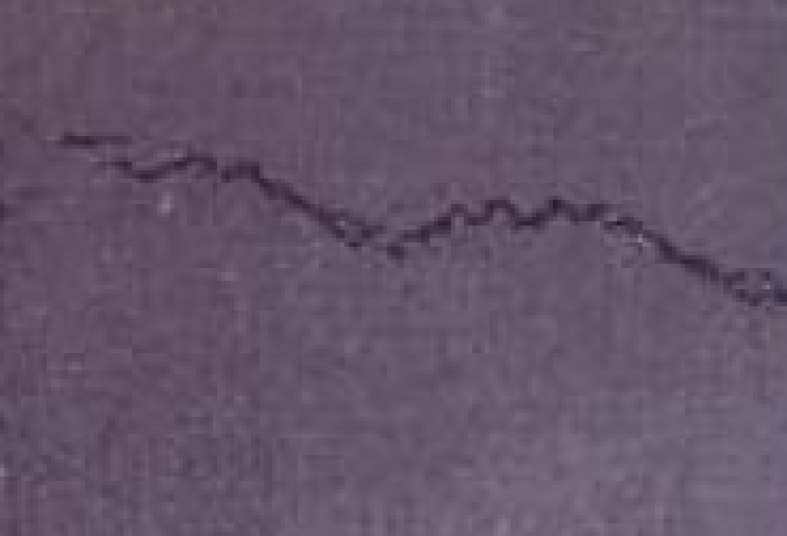Retak Melintang: (17, 101, 787, 335)
